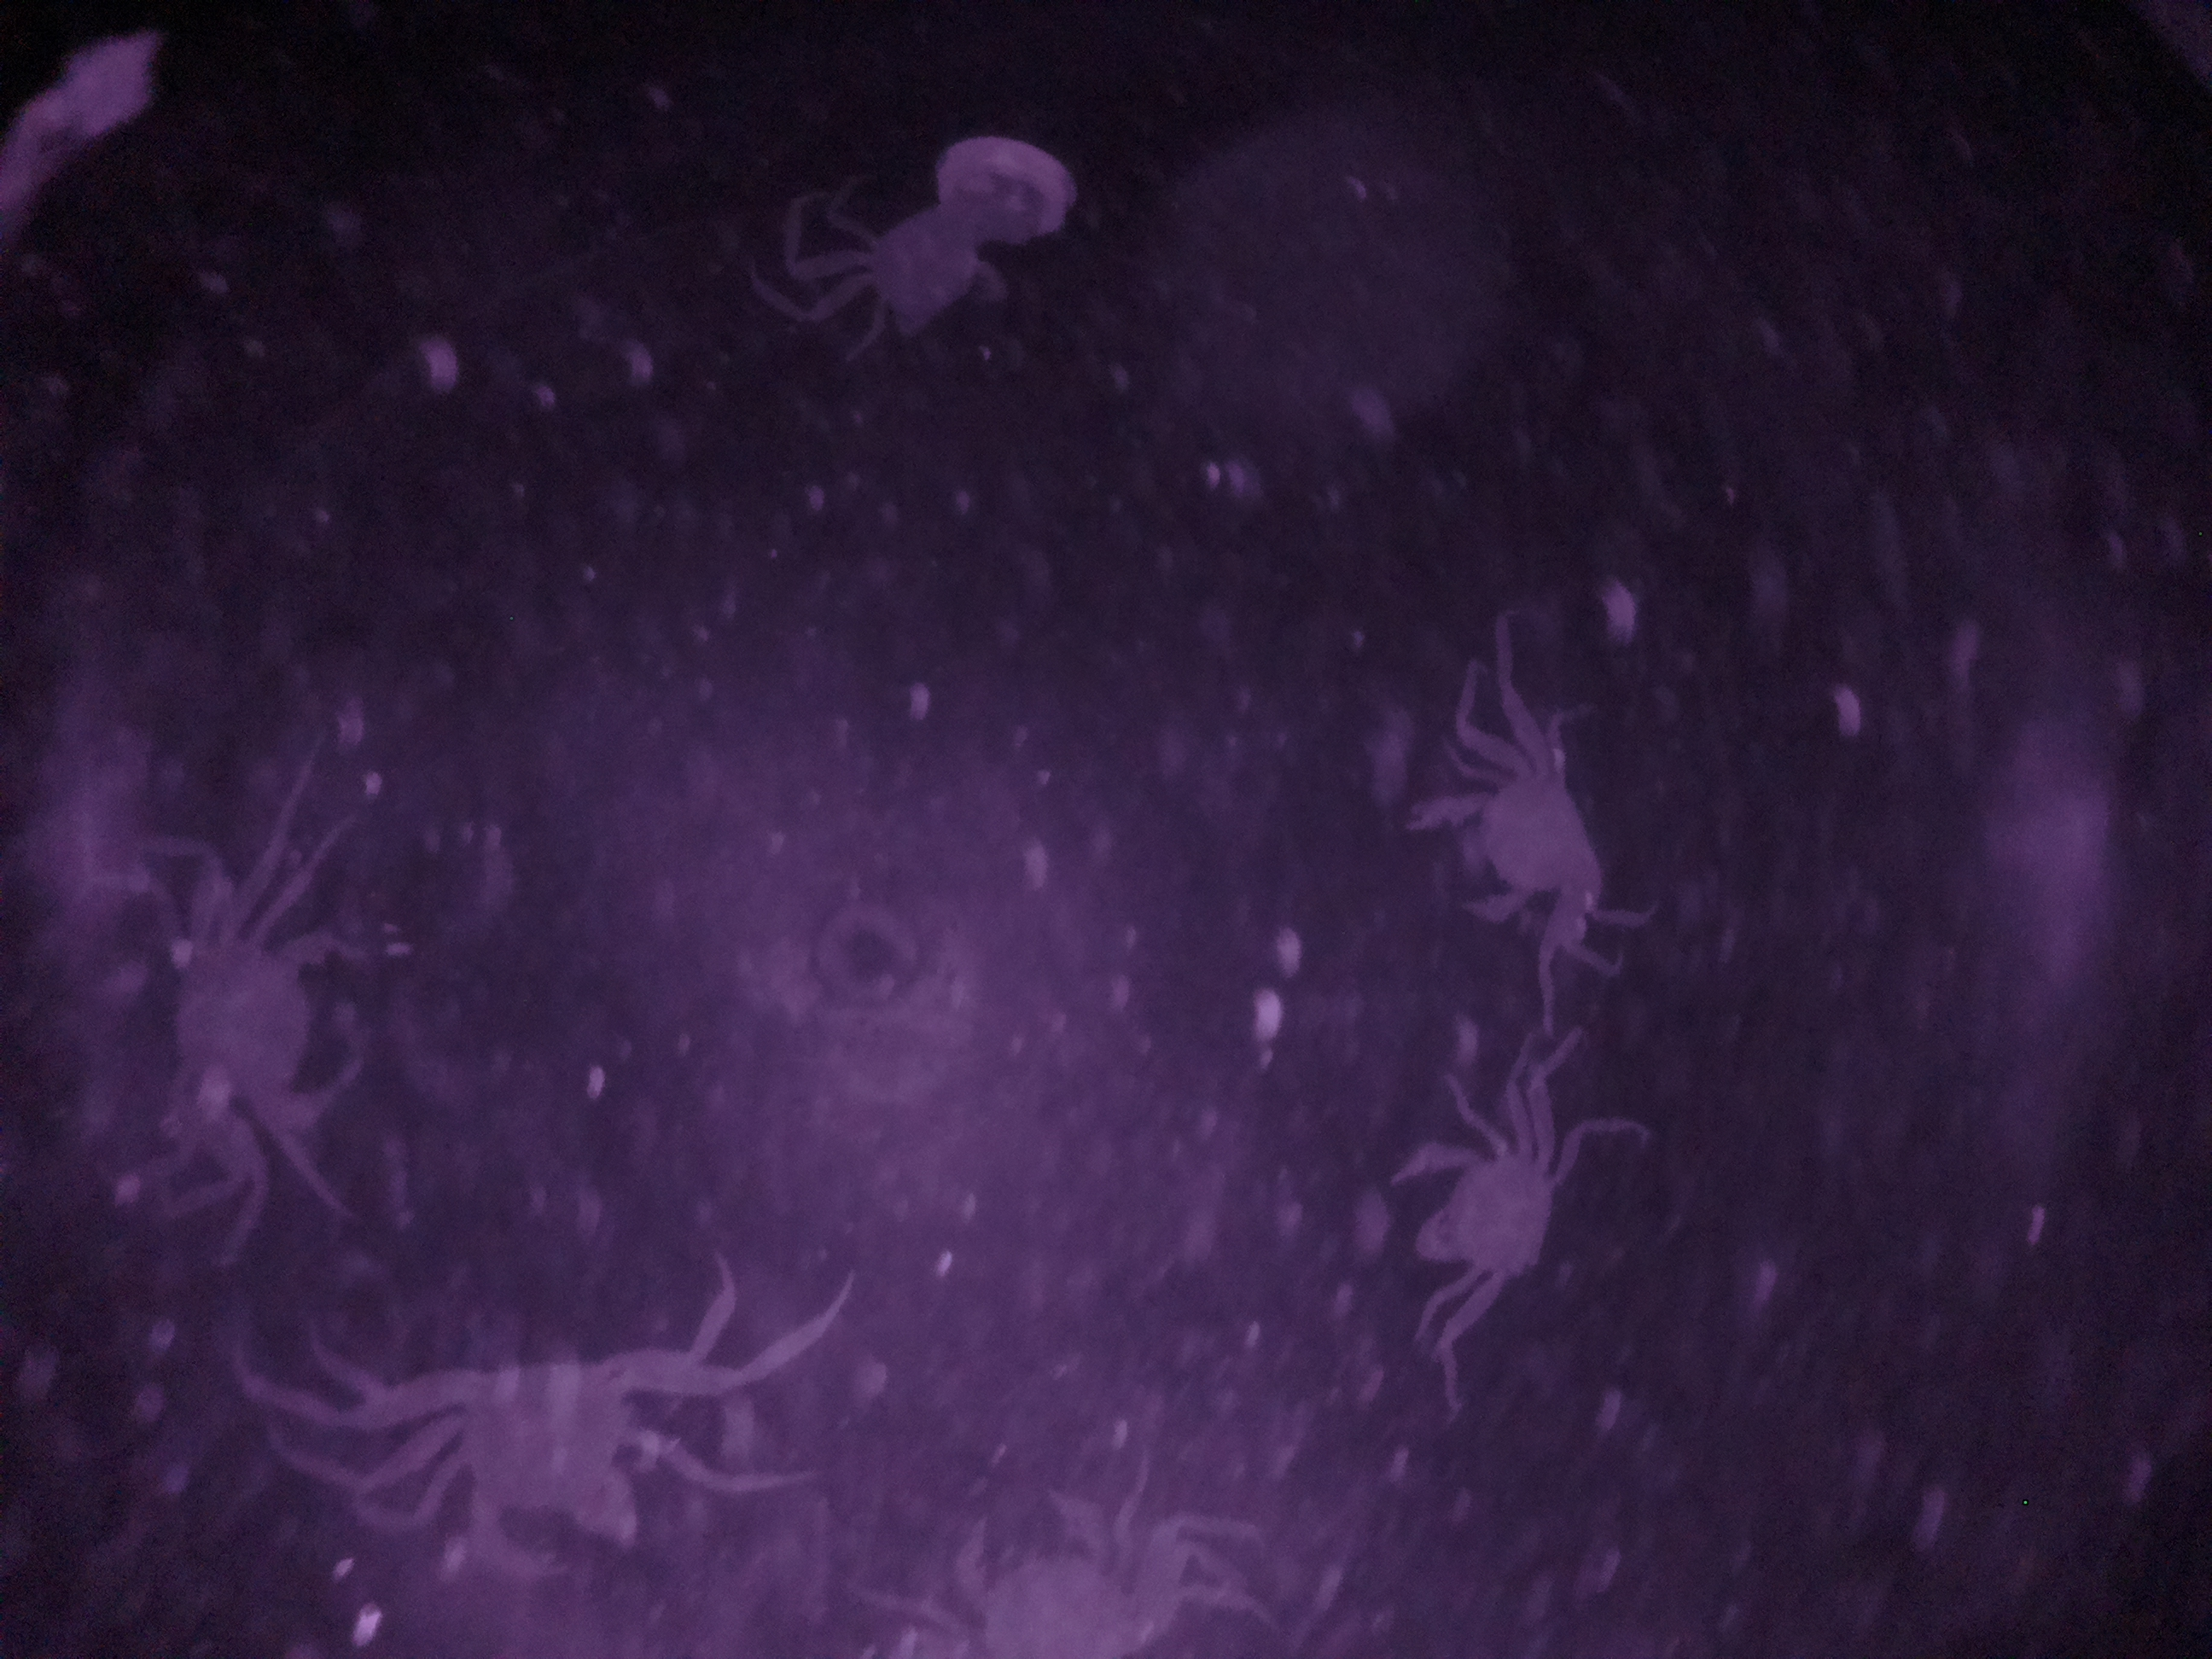Crab: (381, 1330, 688, 1584), (1397, 725, 1623, 971), (1383, 1072, 1575, 1330), (820, 164, 1007, 382)
